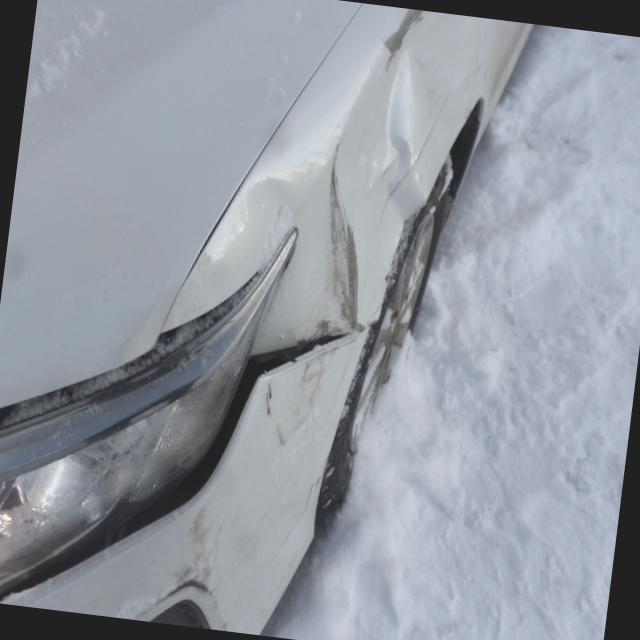Cabossage: (300, 42, 450, 386), (190, 176, 357, 361)
Dechirure: (218, 310, 361, 525)
Rayure: (371, 86, 449, 229), (372, 5, 459, 86), (173, 480, 230, 595)
